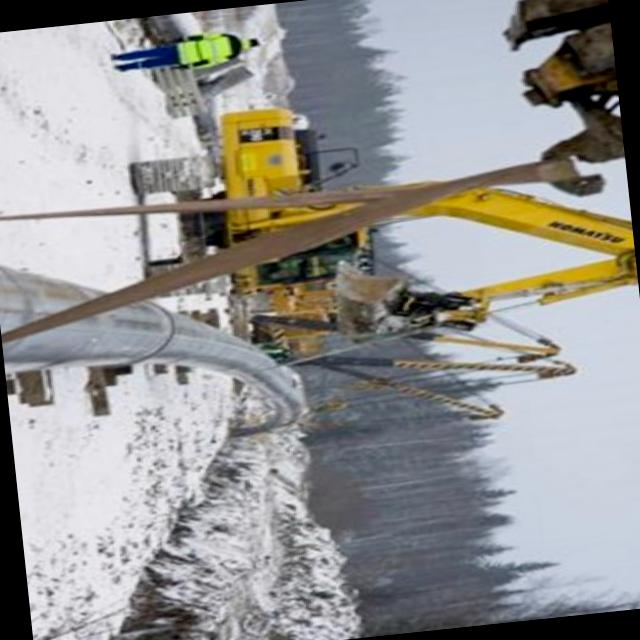gas: (1, 302, 304, 430), (0, 267, 96, 332)
